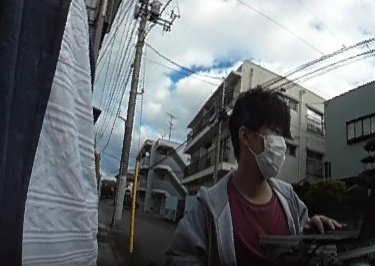person: (192, 86, 315, 266)
